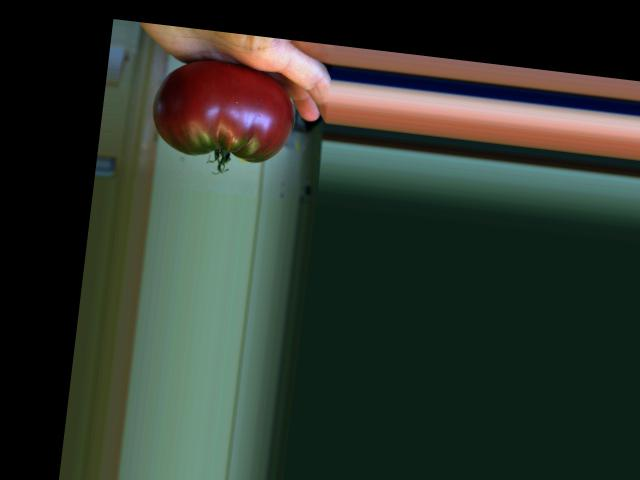tomato: (148, 53, 298, 166)
